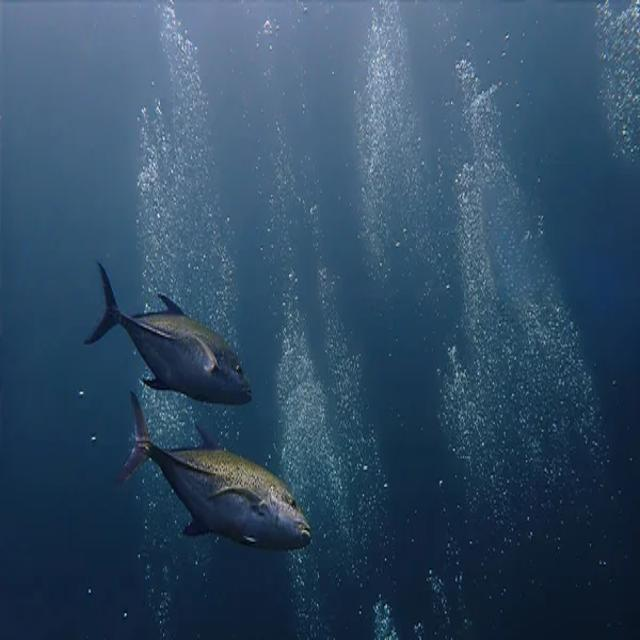fish: (117, 386, 311, 547), (85, 260, 252, 404)
